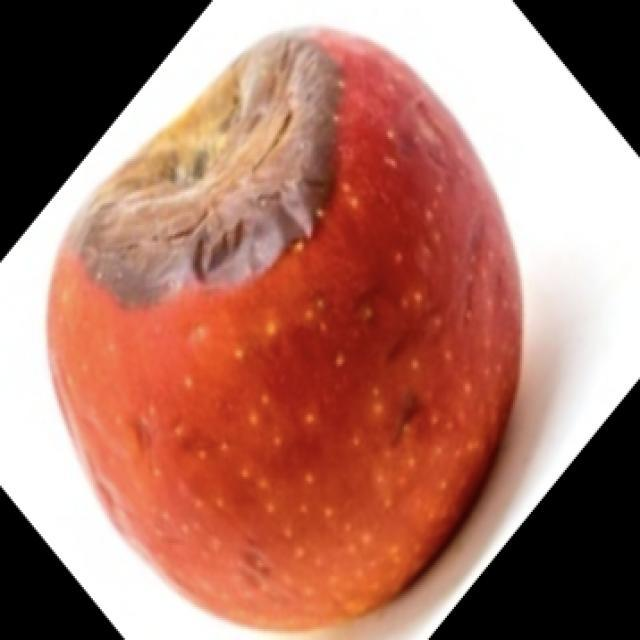Rotten: (72, 36, 505, 612)
